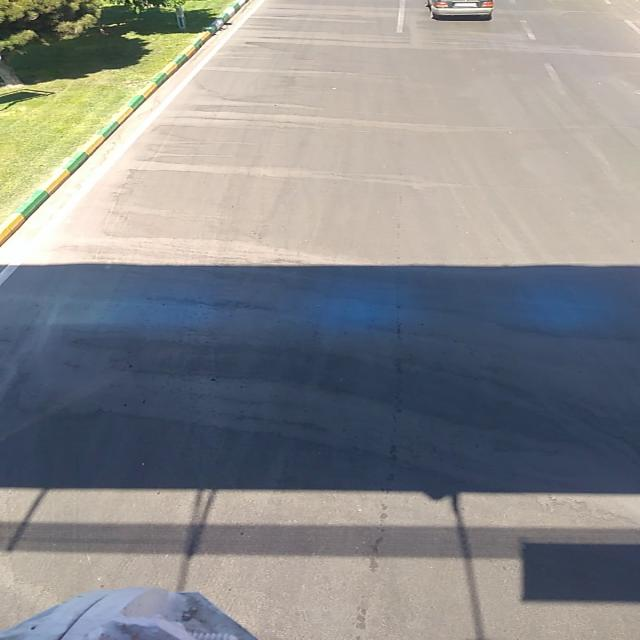car: (422, 0, 495, 19)
